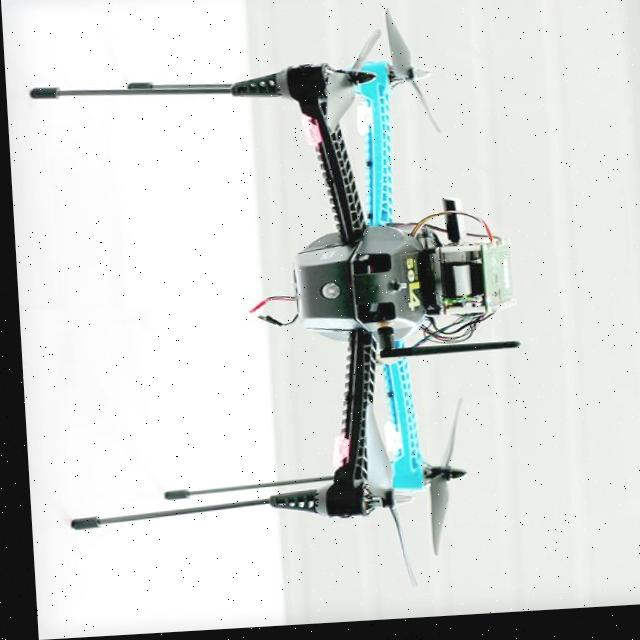drone: (116, 0, 537, 610)
